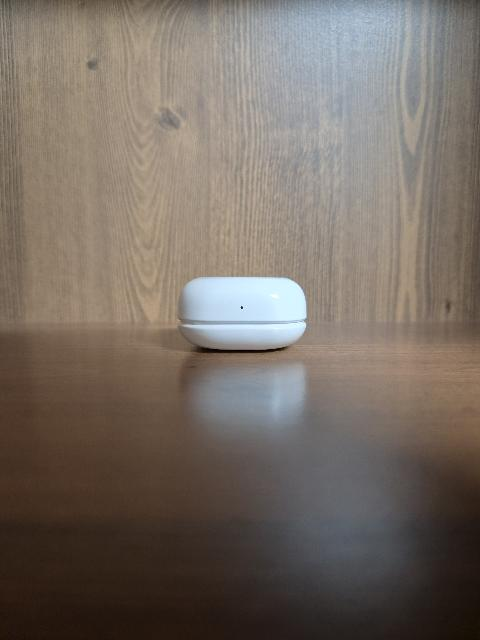earphone_case: (177, 277, 307, 350)
